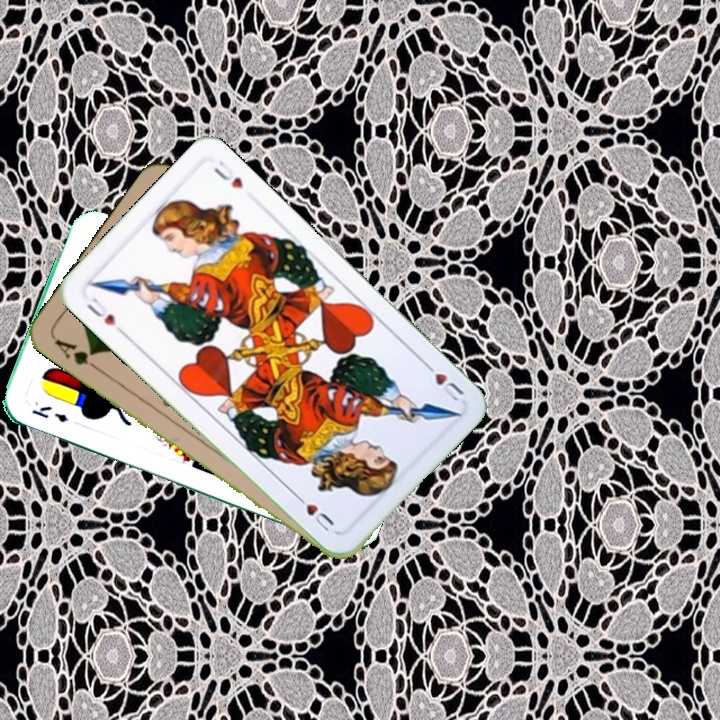EK: (27, 402, 72, 425)
GA: (51, 334, 102, 373)
HU: (419, 357, 467, 404), (82, 293, 127, 337)
